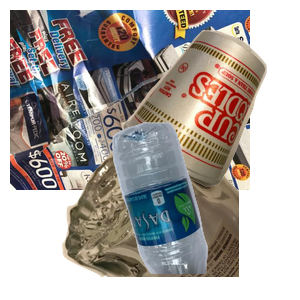glass: (60, 120, 300, 300)
paper: (10, 10, 250, 190)
plastic: (110, 120, 300, 300)
trash: (119, 28, 300, 207)
